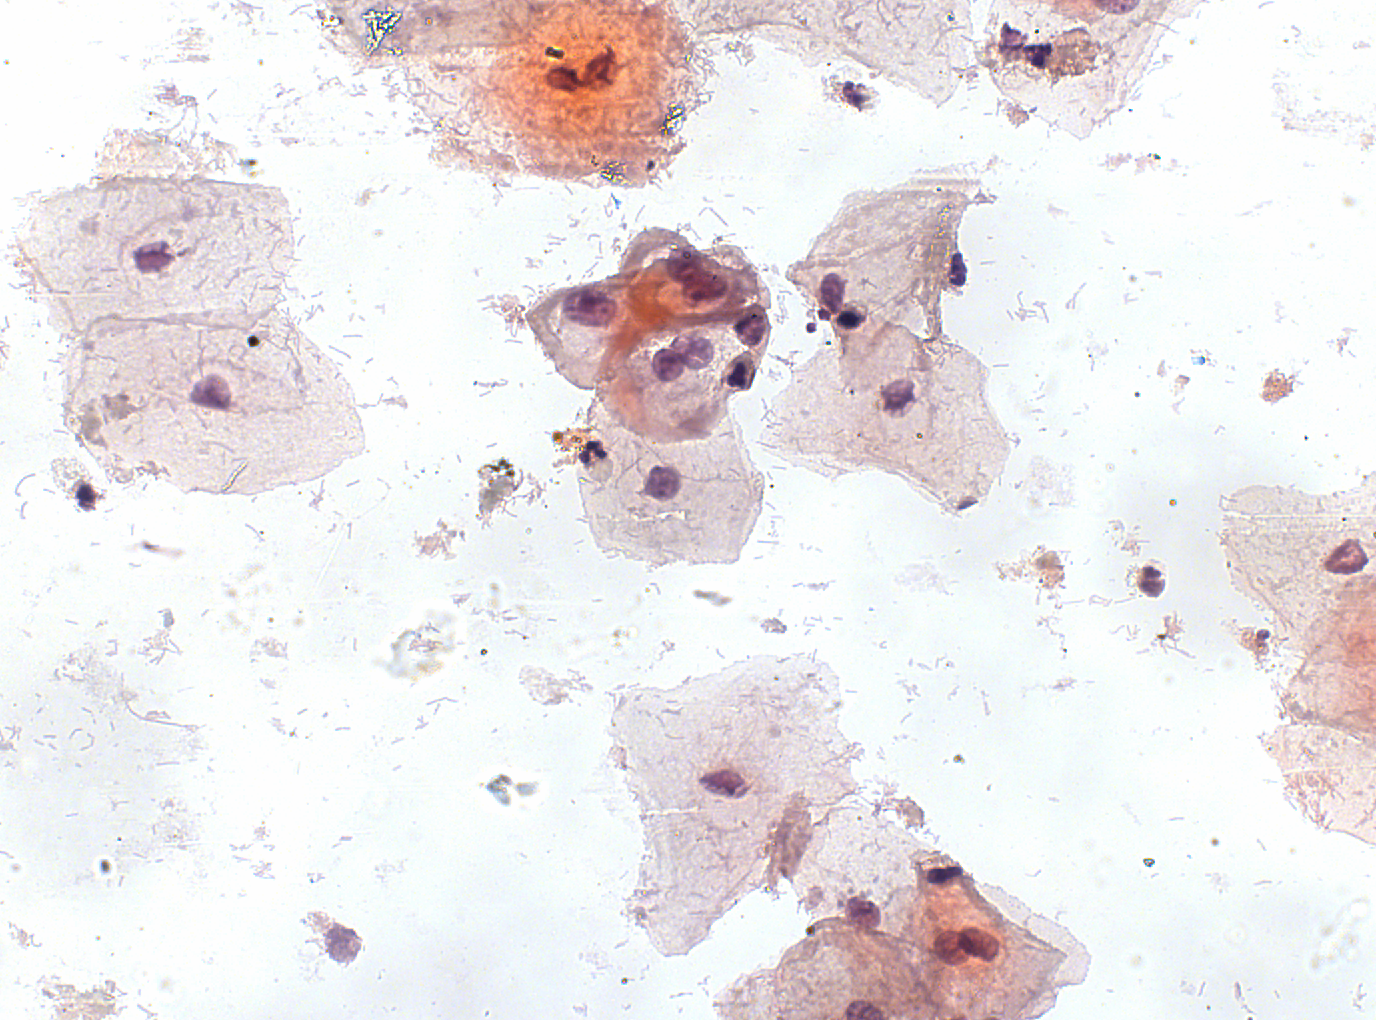Abn: (563, 288, 620, 331), (667, 334, 715, 370), (664, 247, 707, 286), (679, 274, 729, 304), (650, 347, 685, 382)
